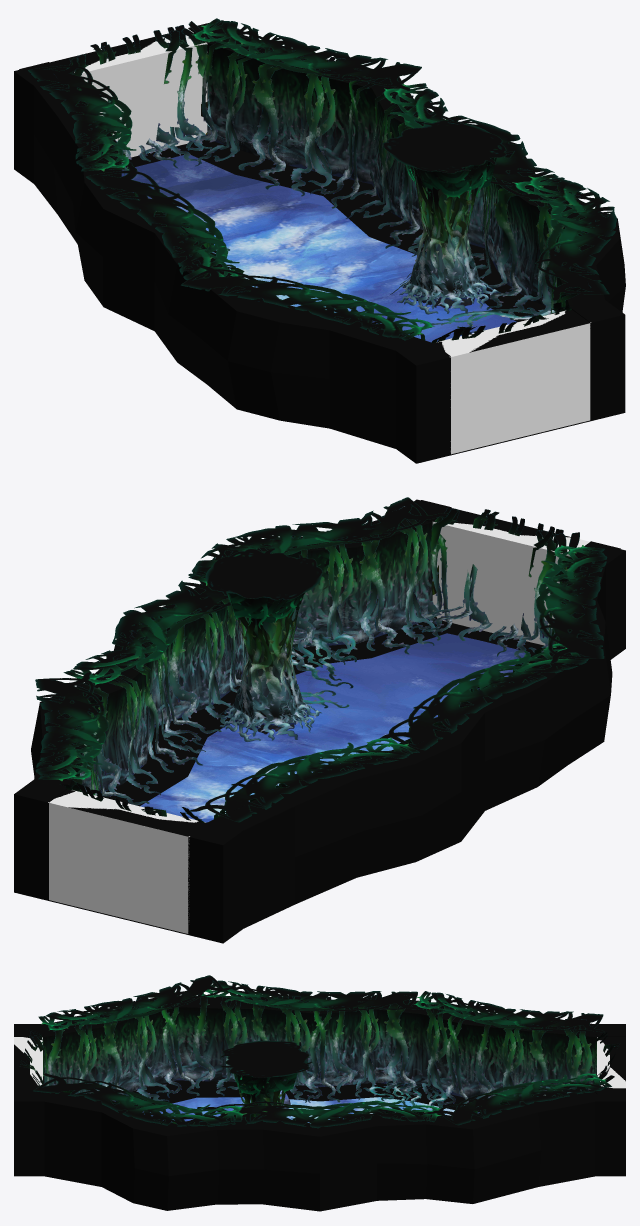
File: Dungeon_012_Road_002_Item.fbx
3 views of the same model, one above another, from view 1: azimuth 30°, elevation 25°; view 2: azimuth 150°, elevation 25°; view 3: azimuth 270°, elevation 25° (orthographic). The views are drawn at different scales.
Visible parts, largest first — view 1: Dan1, Dungeon_021_Tsuta_002, Dan2, Dungeon_021_Tsuta_001, DoorWay_NavMask (1), DoorWay_NavMask (×2), Dungeon_021_Object_011, Dan1_shadow, Dungeon_021_Object_010, un_021_Door_002_Object1 (×2), un_021_Door_002 (×2), Dungeon_021_Tsuta_003; view 2: Dan1, Dungeon_021_Tsuta_002, Dan2, Dungeon_021_Tsuta_001, DoorWay_NavMask (1), DoorWay_NavMask (×2), Dungeon_021_Object_011, un_021_Door_002_Object1 (×2), Dungeon_021_Object_010, Dan1_shadow, un_021_Door_002 (×2), Dungeon_021_Tsuta_003 (+1 smaller); view 3: Dan1, Dungeon_021_Tsuta_002, Dungeon_021_Tsuta_001, Dungeon_021_Object_010, Dan1_shadow, un_021_Door_002 (×2), Dan2, DoorWay_NavMask (×2), un_021_Door_002_Object1 (×2), Dungeon_021_Tsuta_003, Dungeon_021_Object_011.
Part boxes in pixels (<box>): Dan1: <box>14,20,625,463</box>; Dungeon_021_Tsuta_002: <box>28,18,616,340</box>; Dan2: <box>121,155,516,342</box>; Dungeon_021_Tsuta_001: <box>54,38,591,340</box>; DoorWay_NavMask (1): <box>443,322,591,454</box>; DoorWay_NavMask (×2): <box>74,29,565,356</box>; Dungeon_021_Object_011: <box>390,165,499,314</box>; Dan1_shadow: <box>176,140,554,322</box>; Dungeon_021_Object_010: <box>382,120,506,199</box>; un_021_Door_002_Object1 (×2): <box>67,21,571,343</box>; un_021_Door_002 (×2): <box>19,23,619,455</box>; Dungeon_021_Tsuta_003: <box>216,248,554,332</box>; Dan1: <box>14,499,625,943</box>; Dungeon_021_Tsuta_002: <box>35,497,607,822</box>; Dan2: <box>140,633,529,822</box>; Dungeon_021_Tsuta_001: <box>56,506,588,819</box>; DoorWay_NavMask (1): <box>48,795,189,933</box>; DoorWay_NavMask (×2): <box>50,522,589,822</box>; Dungeon_021_Object_011: <box>220,598,321,741</box>; un_021_Door_002_Object1 (×2): <box>60,508,579,822</box>; Dungeon_021_Object_010: <box>205,548,322,628</box>; Dan1_shadow: <box>102,619,544,806</box>; un_021_Door_002 (×2): <box>19,500,620,934</box>; Dungeon_021_Tsuta_003: <box>286,633,357,708</box>; Dan1: <box>14,995,625,1211</box>; Dungeon_021_Tsuta_002: <box>33,975,611,1128</box>; Dungeon_021_Tsuta_001: <box>44,994,592,1123</box>; Dungeon_021_Object_010: <box>220,1040,312,1098</box>; Dan1_shadow: <box>115,1080,509,1112</box>; un_021_Door_002 (×2): <box>14,1025,625,1099</box>; Dan2: <box>142,1097,479,1123</box>; DoorWay_NavMask (×2): <box>14,1037,625,1088</box>; un_021_Door_002_Object1 (×2): <box>19,1028,619,1085</box>; Dungeon_021_Tsuta_003: <box>366,1081,447,1110</box>; Dungeon_021_Object_011: <box>234,1074,285,1116</box>.
Size of what is drawn, in the model's own units: 9.14 by 3.03 by 15.
